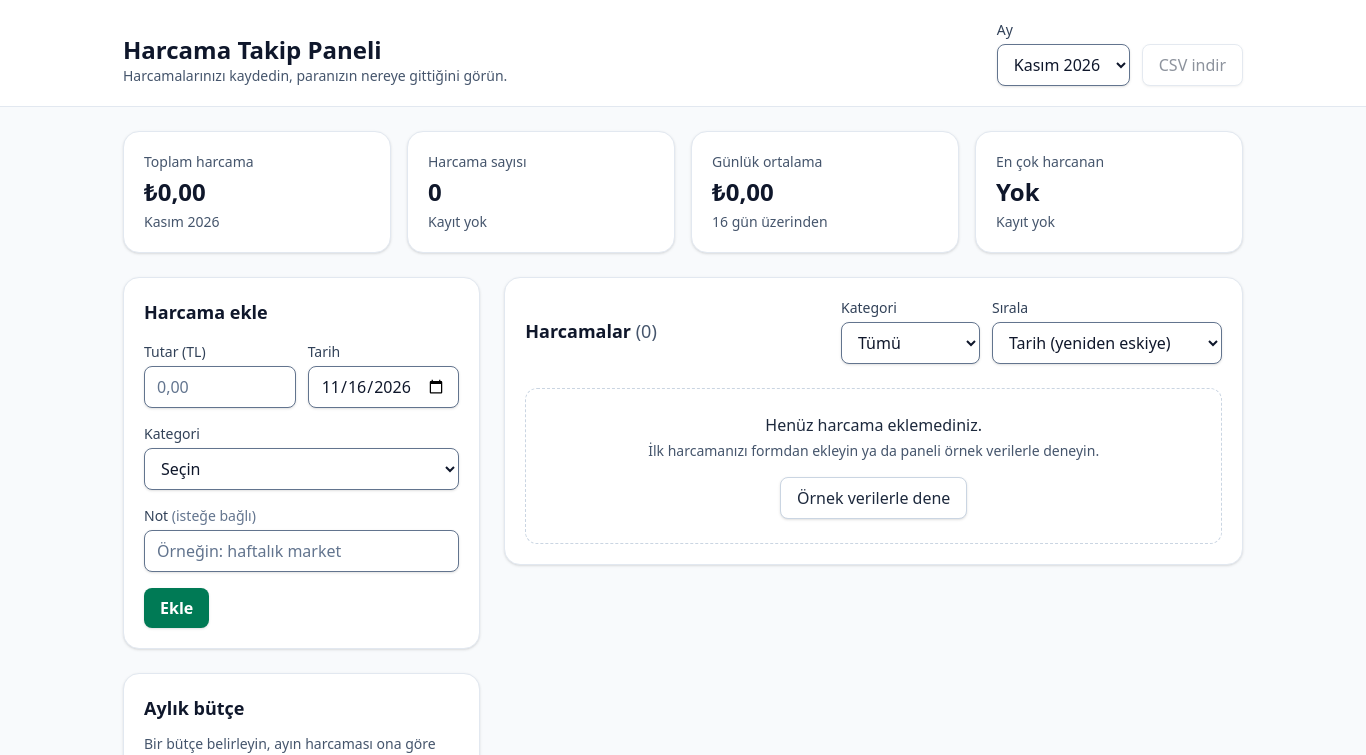
Test: adding expenses › adds an expense and shows it in the list, the summary and the breakdown
In the field labelled "Tutar (TL)": (220, 387) x1=144 y1=366 x2=296 y2=408, type "1.250,50"
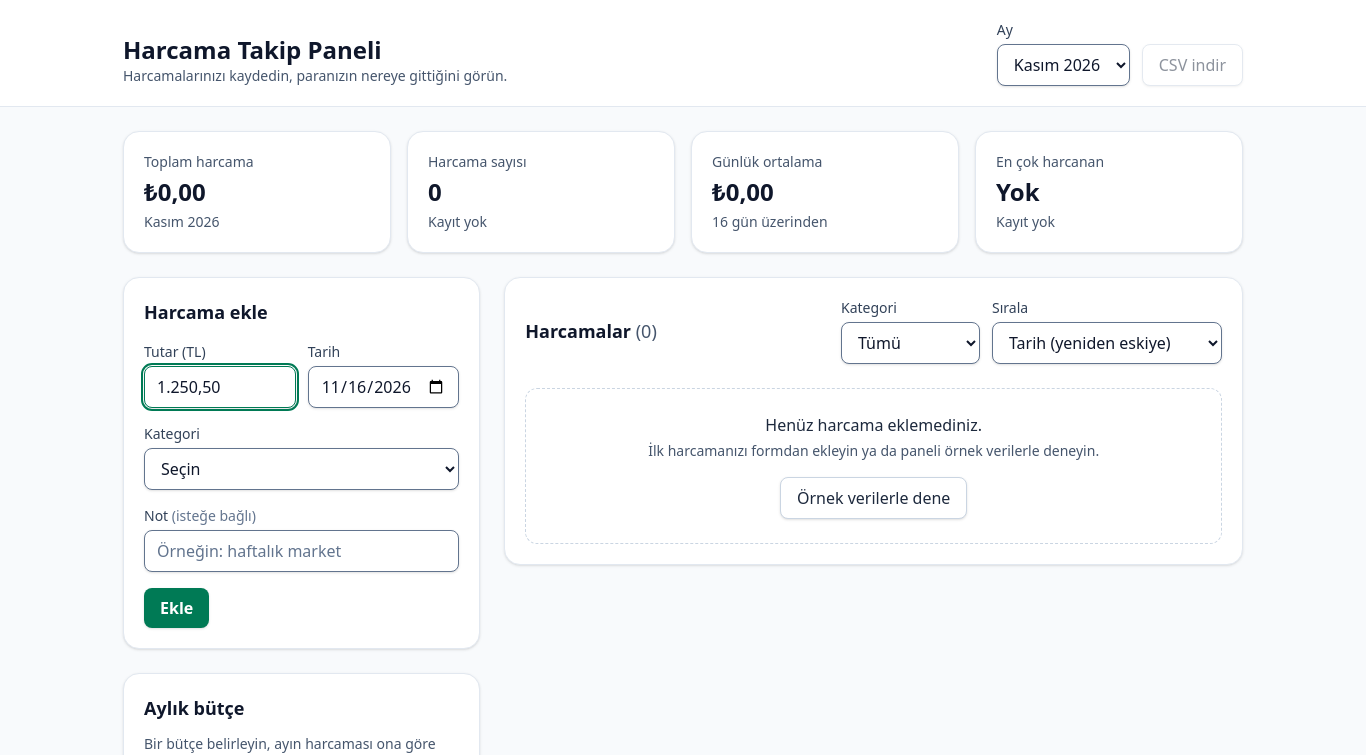
Select "Market" in the dropdown labelled "Kategori" below "Tutar (TL)": (302, 469) x1=144 y1=448 x2=459 y2=490
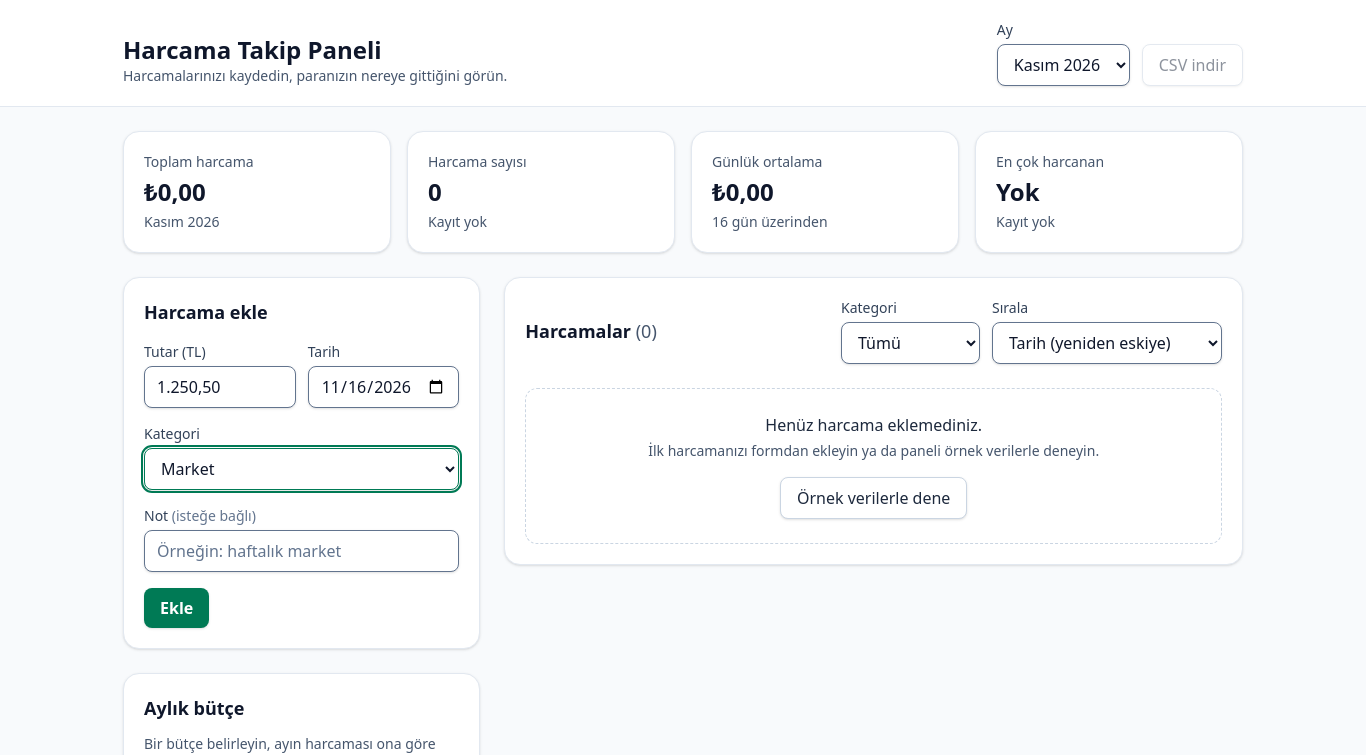
In the field labelled "Not (isteğe bağlı)": (302, 551) x1=144 y1=530 x2=459 y2=572, type "Haftalık market"
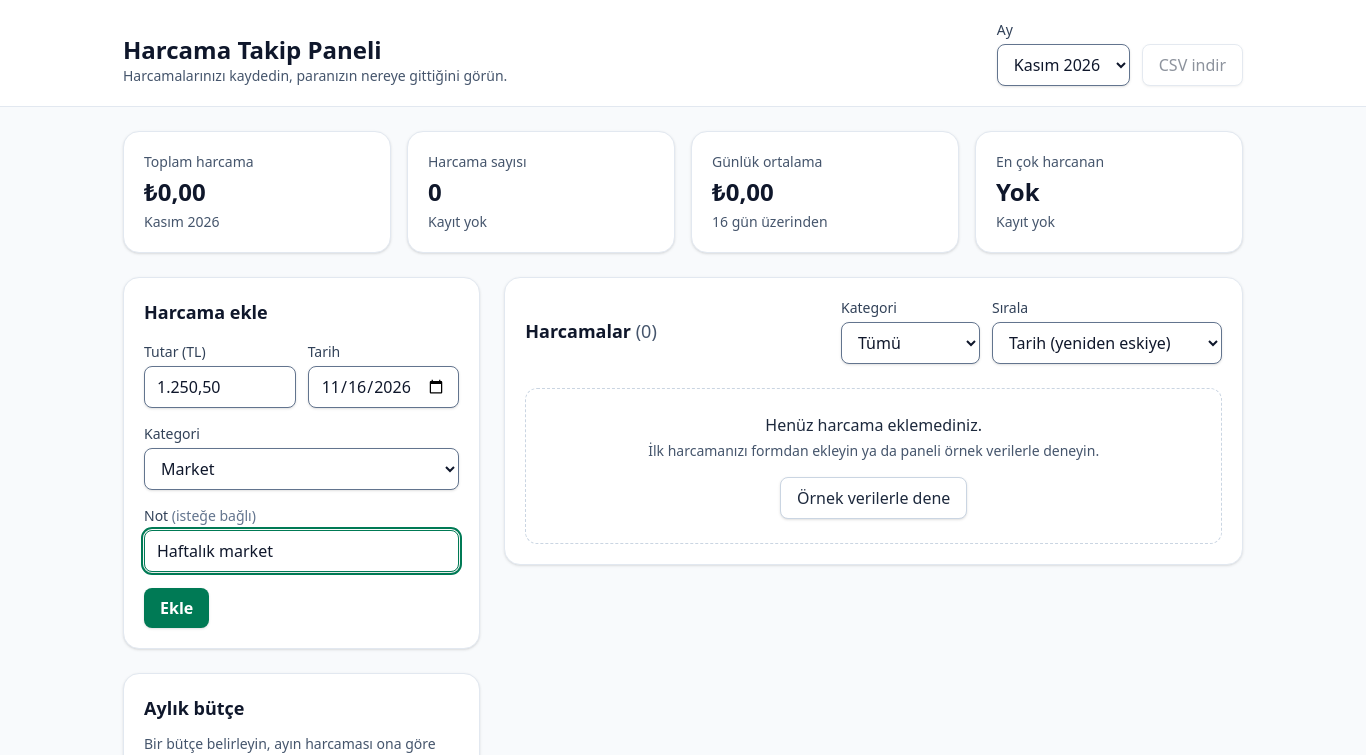
Click the button "Ekle": (177, 608) x1=144 y1=588 x2=209 y2=628
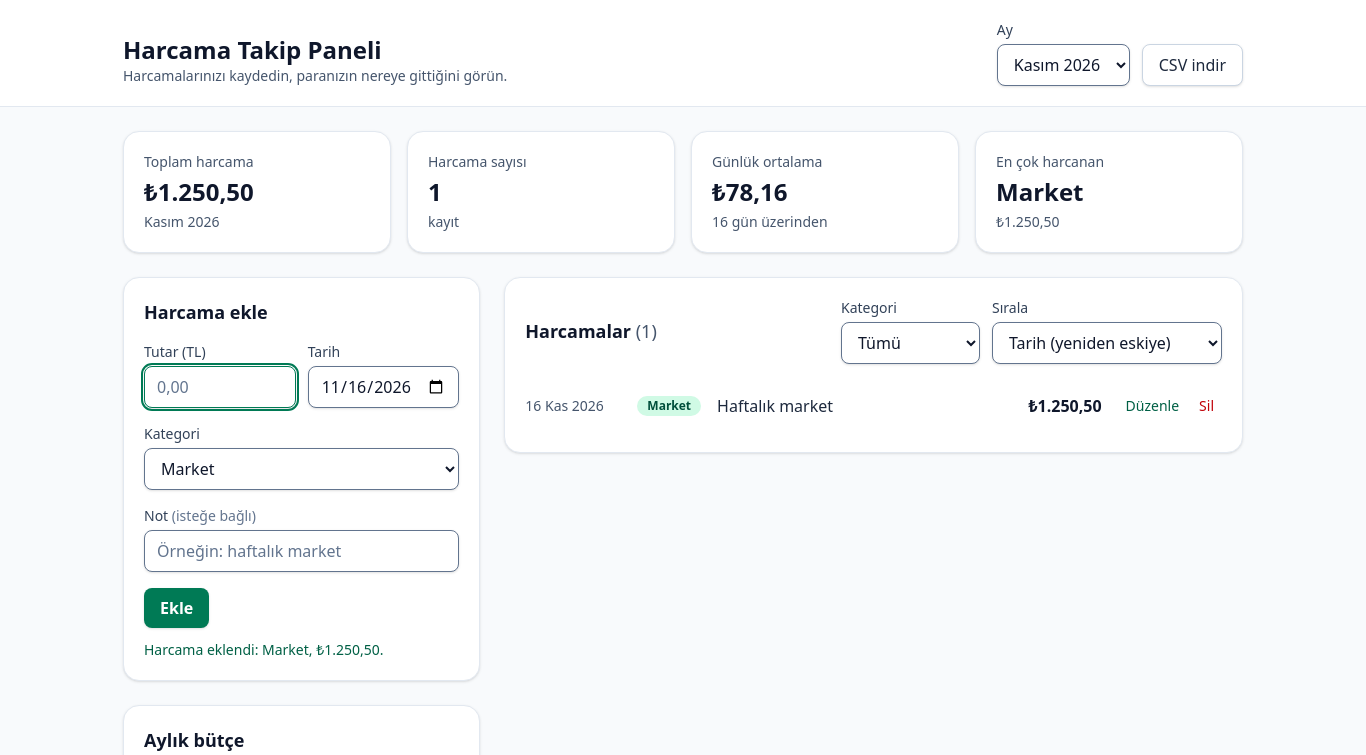
Expected: the message reads "Harcama eklendi: Market, ₺1.250,50.", x1=144 y1=640 x2=384 y2=659
